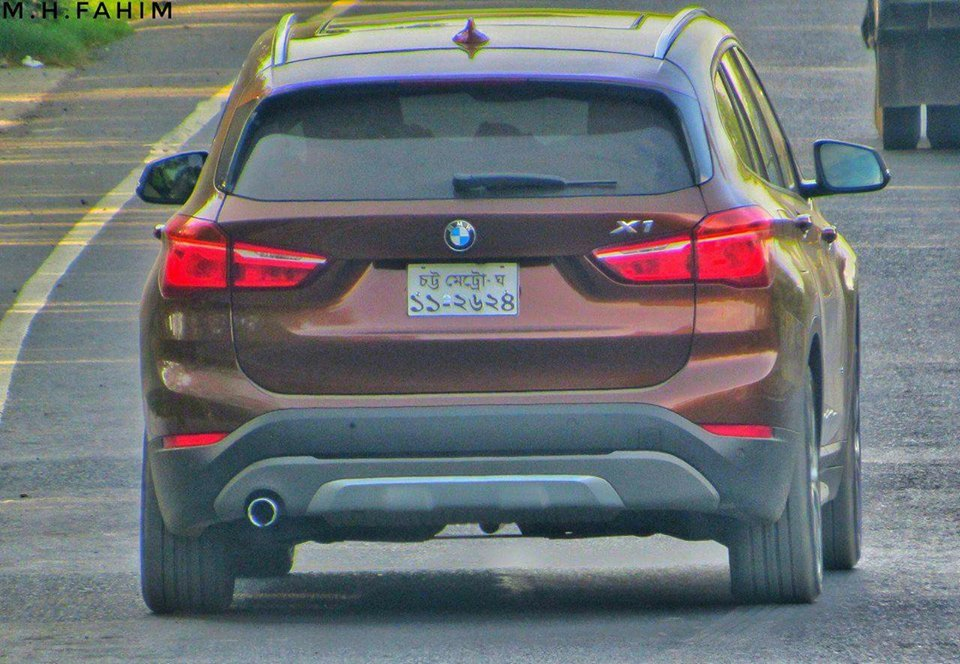registration_plate: (406, 261, 520, 317)
